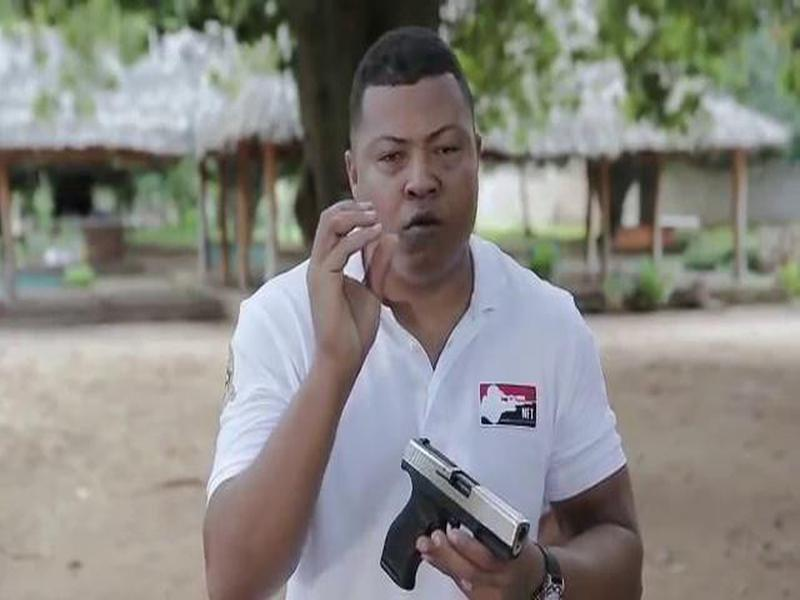Pistola: (386, 430, 544, 589)
